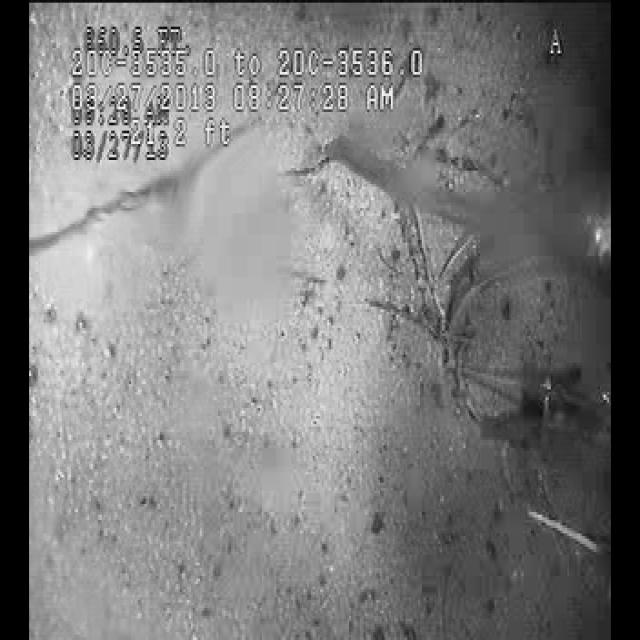Crack: (40, 148, 204, 268)
Fracture: (358, 133, 572, 423)
